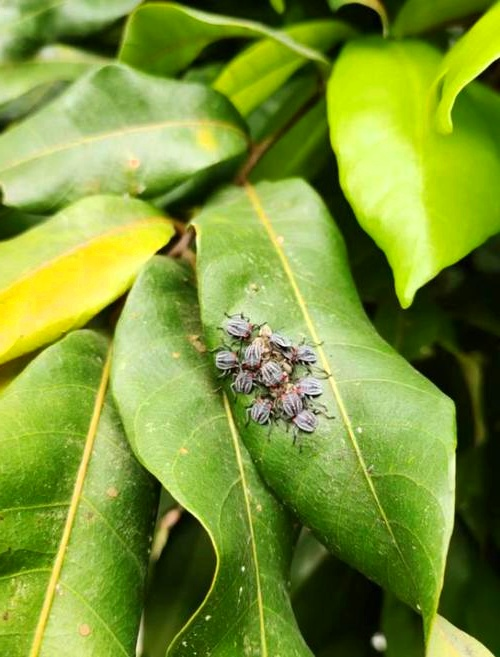Stink_Bug: (224, 306, 316, 444)
